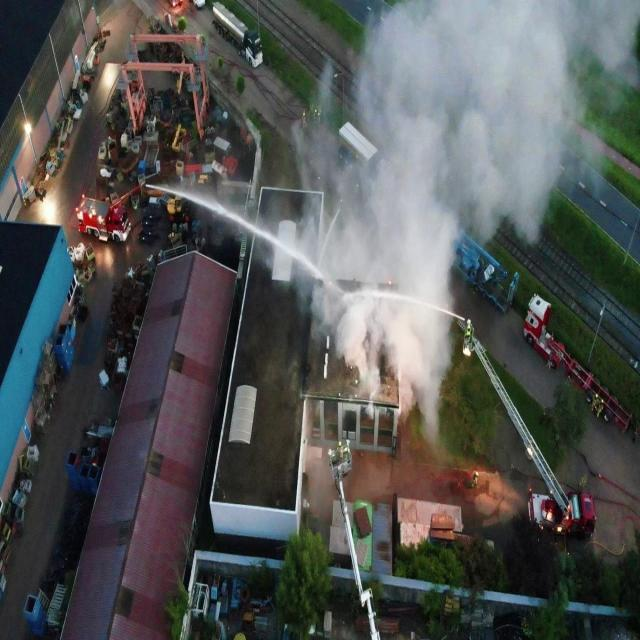Smoke: (289, 0, 640, 452), (302, 442, 336, 519)
